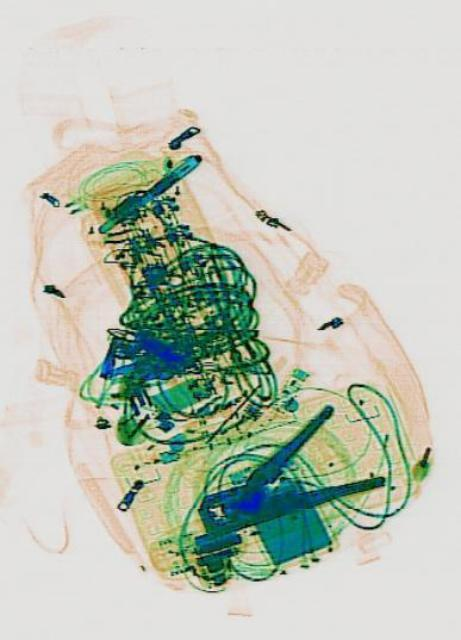Pliers: (185, 386, 384, 570)
